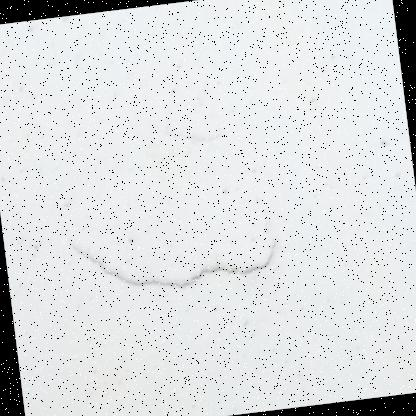Crack: (32, 173, 308, 343)
